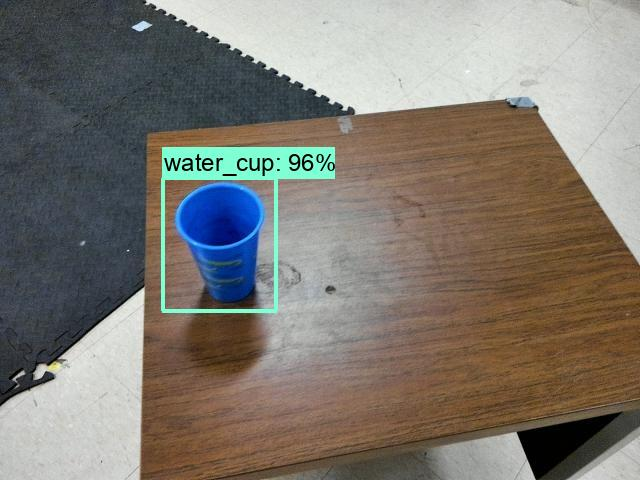water_cup: (164, 173, 276, 314)
